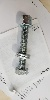FinishedAssembly: (13, 13, 35, 77)
